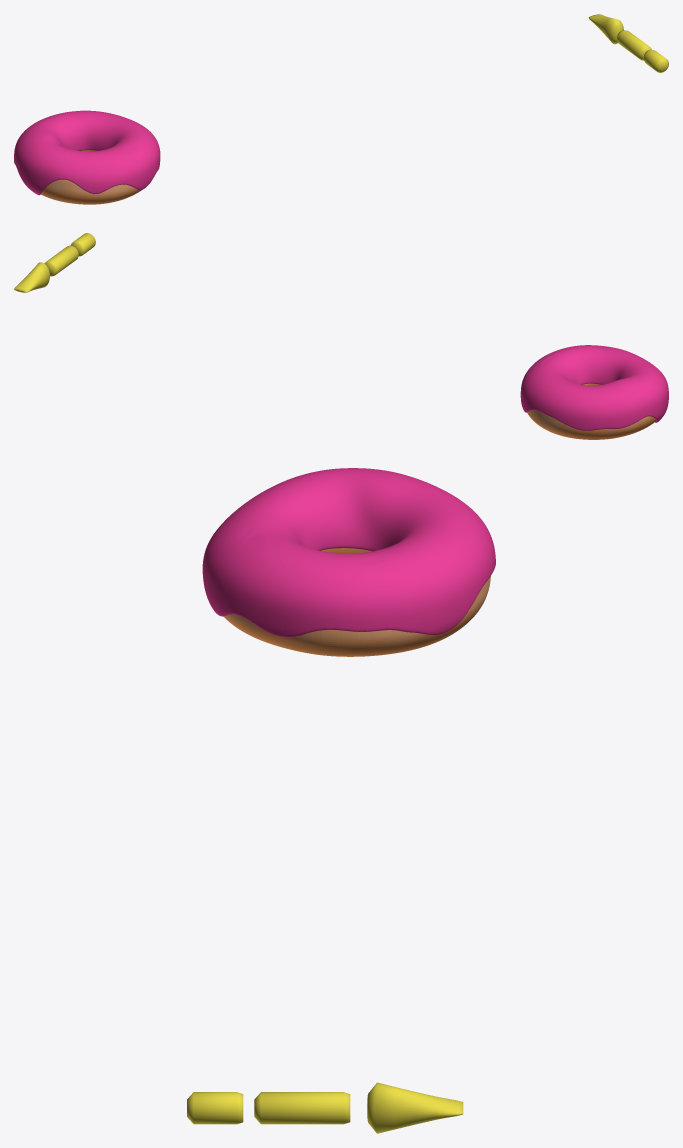
Rendered from Doughnut.fbx.
3 views of the same model, one above another, from view 1: azimuth 30°, elevation 25°; view 2: azimuth 150°, elevation 25°; view 3: azimuth 270°, elevation 25° (orthographic). The views are drawn at different scales.
Visible parts, largest first — view 1: Frosting, Doughnut, spr_bent, spr_long, spr_short; view 2: Frosting, Doughnut, spr_bent, spr_long, spr_short; view 3: Frosting, Doughnut, spr_bent, spr_long, spr_short.
Part boxes in pixels (x1,y1,x2,y2): Frosting: [14, 110, 160, 195]; Doughnut: [18, 150, 141, 204]; spr_bent: [588, 14, 623, 44]; spr_long: [616, 30, 651, 60]; spr_short: [643, 50, 668, 72]; Frosting: [520, 345, 668, 430]; Doughnut: [527, 383, 656, 439]; spr_bent: [14, 262, 49, 292]; spr_long: [44, 245, 78, 276]; spr_short: [70, 233, 95, 256]; Frosting: [202, 468, 495, 637]; Doughnut: [223, 548, 490, 656]; spr_bent: [367, 1082, 463, 1133]; spr_long: [254, 1092, 350, 1124]; spr_short: [187, 1092, 243, 1124].
Size of the model in its own units: 113 by 9 by 24.8.
Materials: 3 (1 with a texture image).
